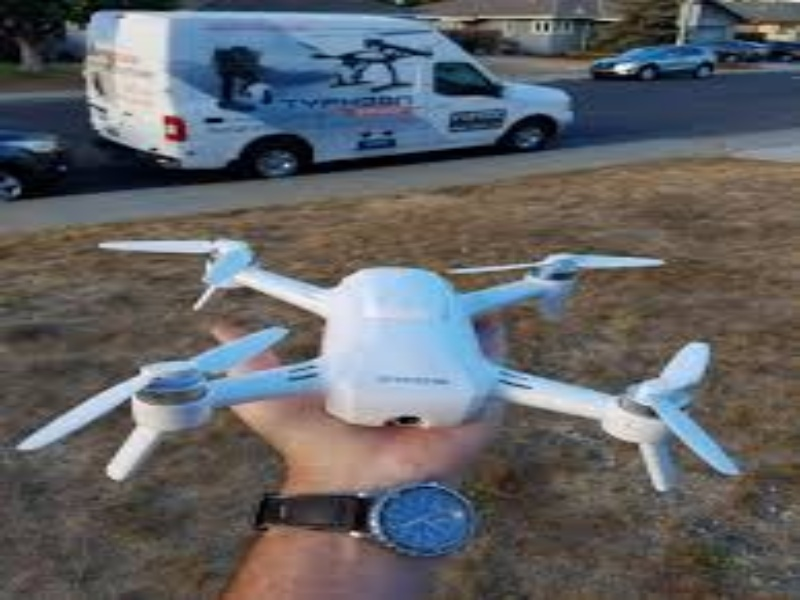drone: (38, 227, 762, 499)
